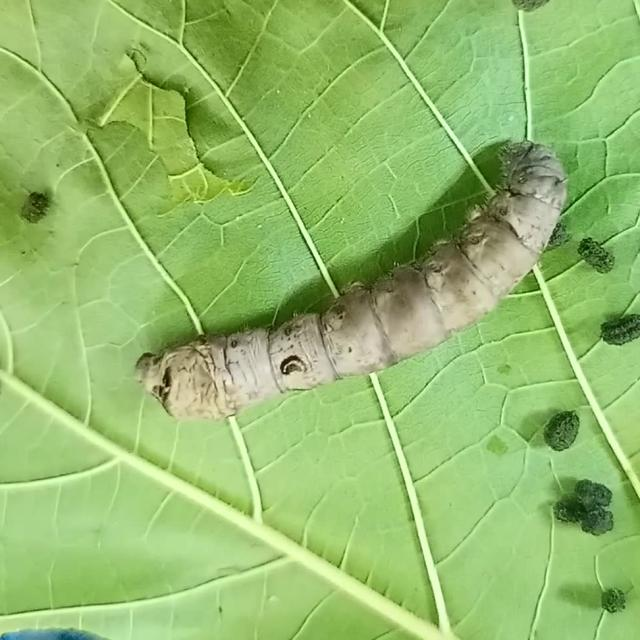Grasserie: (129, 126, 578, 432)
